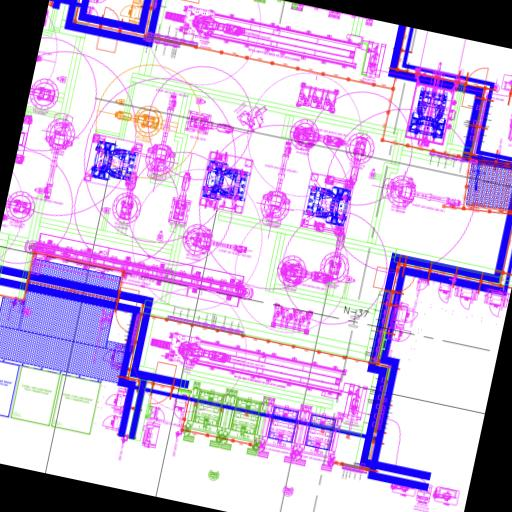robot: (379, 168, 465, 224), (31, 108, 79, 204), (140, 88, 190, 179), (256, 137, 302, 229), (166, 330, 235, 376), (272, 250, 338, 297), (180, 222, 250, 266), (178, 2, 248, 46), (337, 129, 378, 190), (109, 166, 148, 226), (166, 170, 198, 228), (182, 109, 235, 143)
